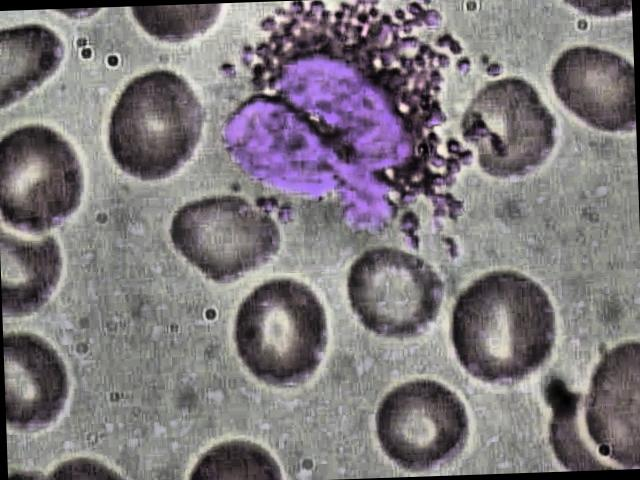RBC: (92, 66, 219, 190), (438, 268, 564, 392), (228, 271, 334, 398), (226, 273, 332, 400), (452, 77, 562, 192), (165, 191, 288, 290), (0, 117, 93, 241), (344, 244, 446, 343), (371, 379, 474, 477), (546, 40, 636, 136)
WBC: (208, 0, 518, 274)
